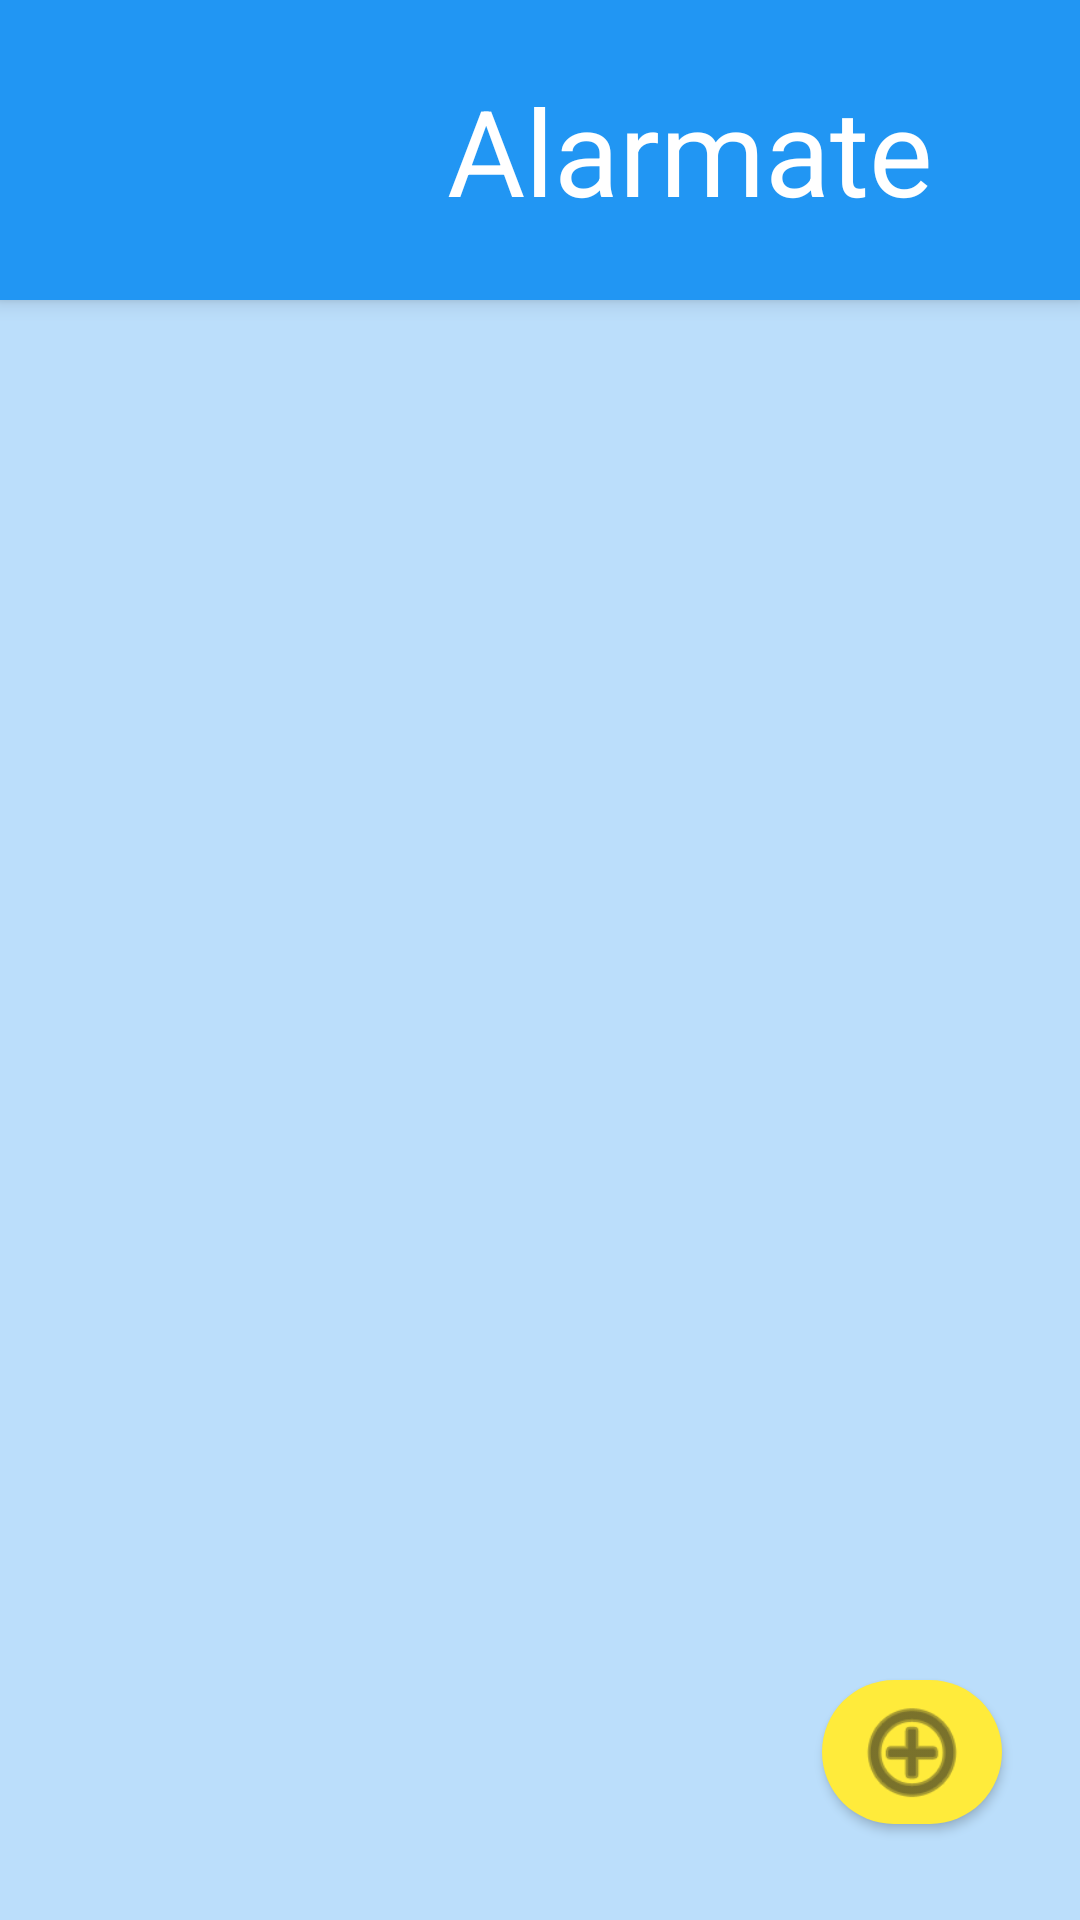

Point at icon controls on the screen. Image size 1080px×1920px, points as (x=x, y=y).
add: (x=912, y=1755)
